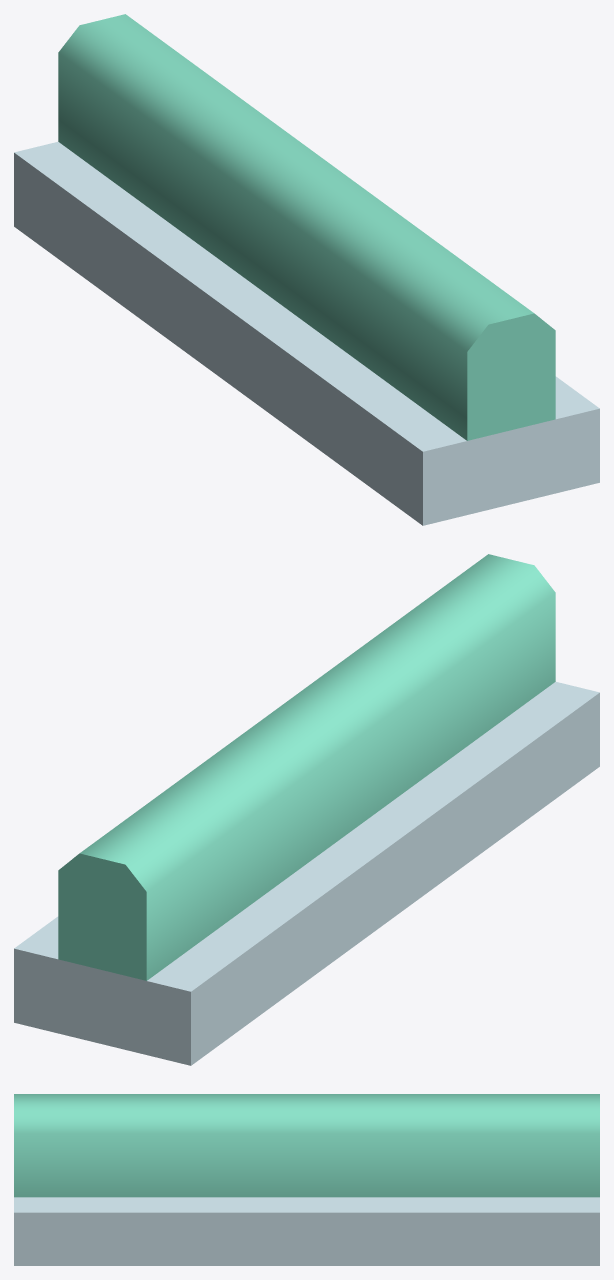
3 views of the same model, one above another, from view 1: azimuth 30°, elevation 25°; view 2: azimuth 150°, elevation 25°; view 3: azimuth 270°, elevation 25° (orthographic). The views are drawn at different scales.
Visible parts, largest first — view 1: hedge; view 2: hedge; view 3: hedge.
Boxes of the visible parts, x1=… form: hedge: x1=14, y1=14, x2=599, y2=525; hedge: x1=14, y1=554, x2=599, y2=1065; hedge: x1=14, y1=1094, x2=599, y2=1265.
Size of the model in its own units: 0.25 by 0.25 by 1.
